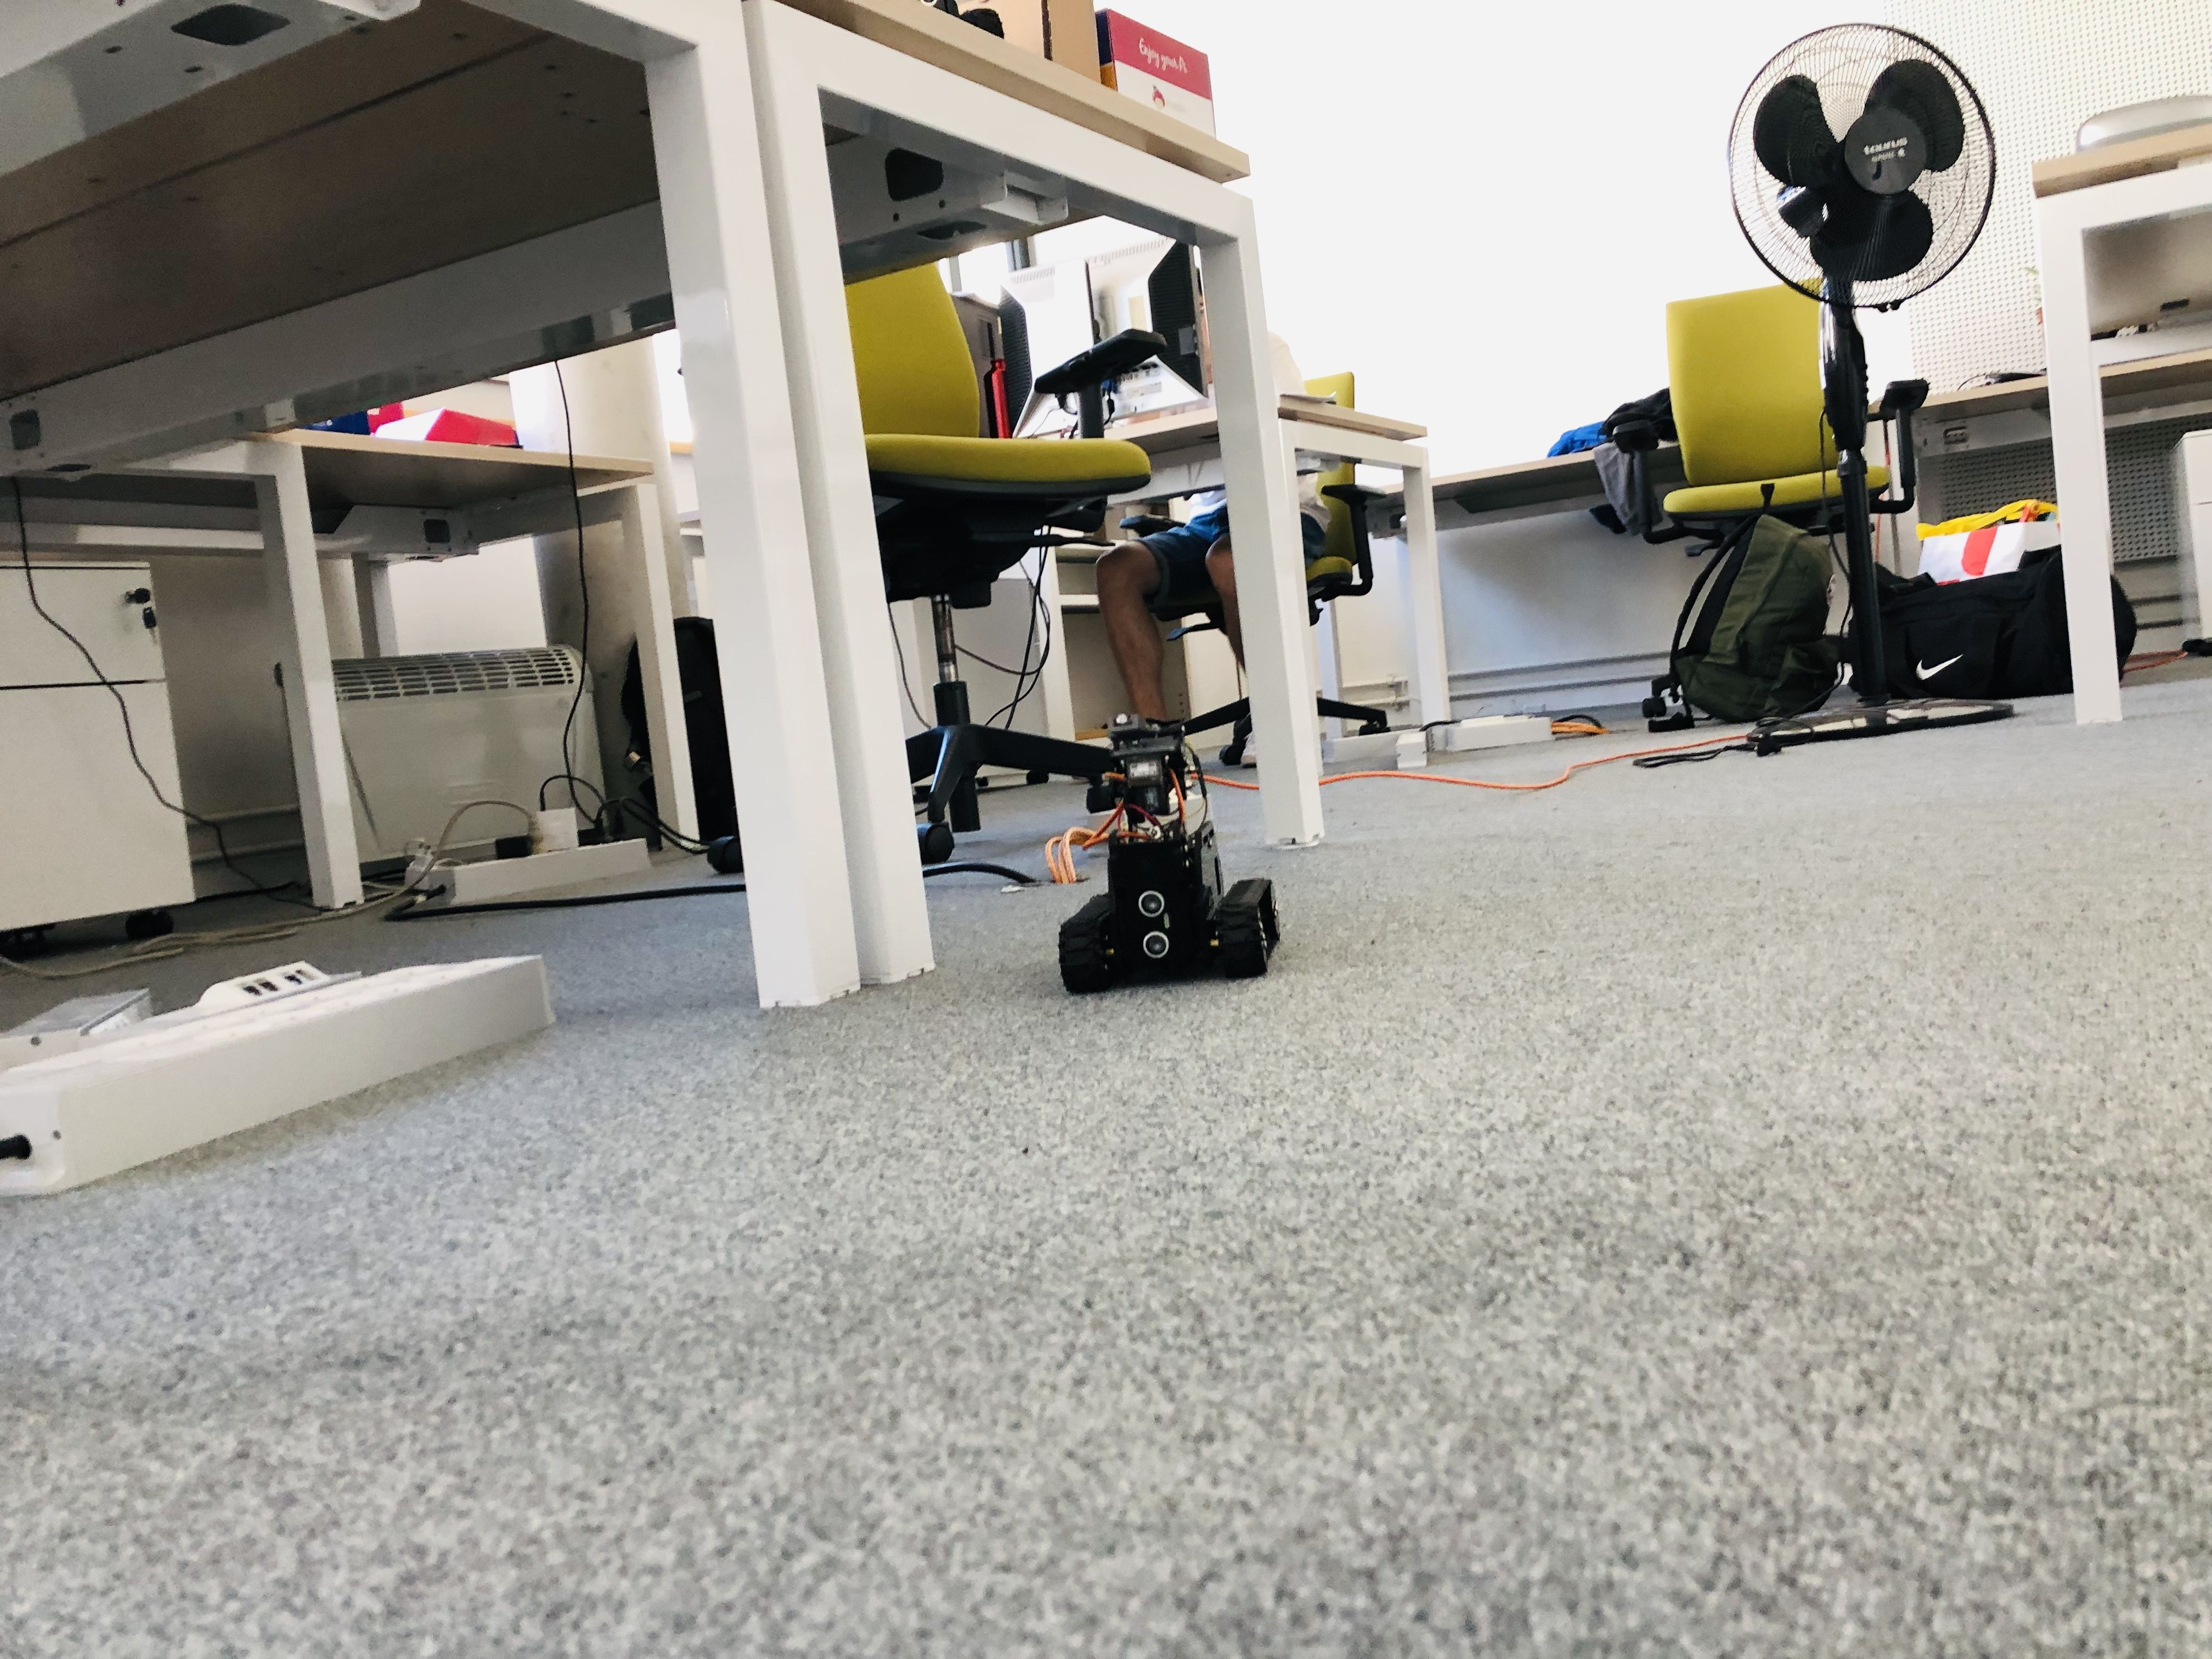rasptank: (1057, 714, 1277, 997)
